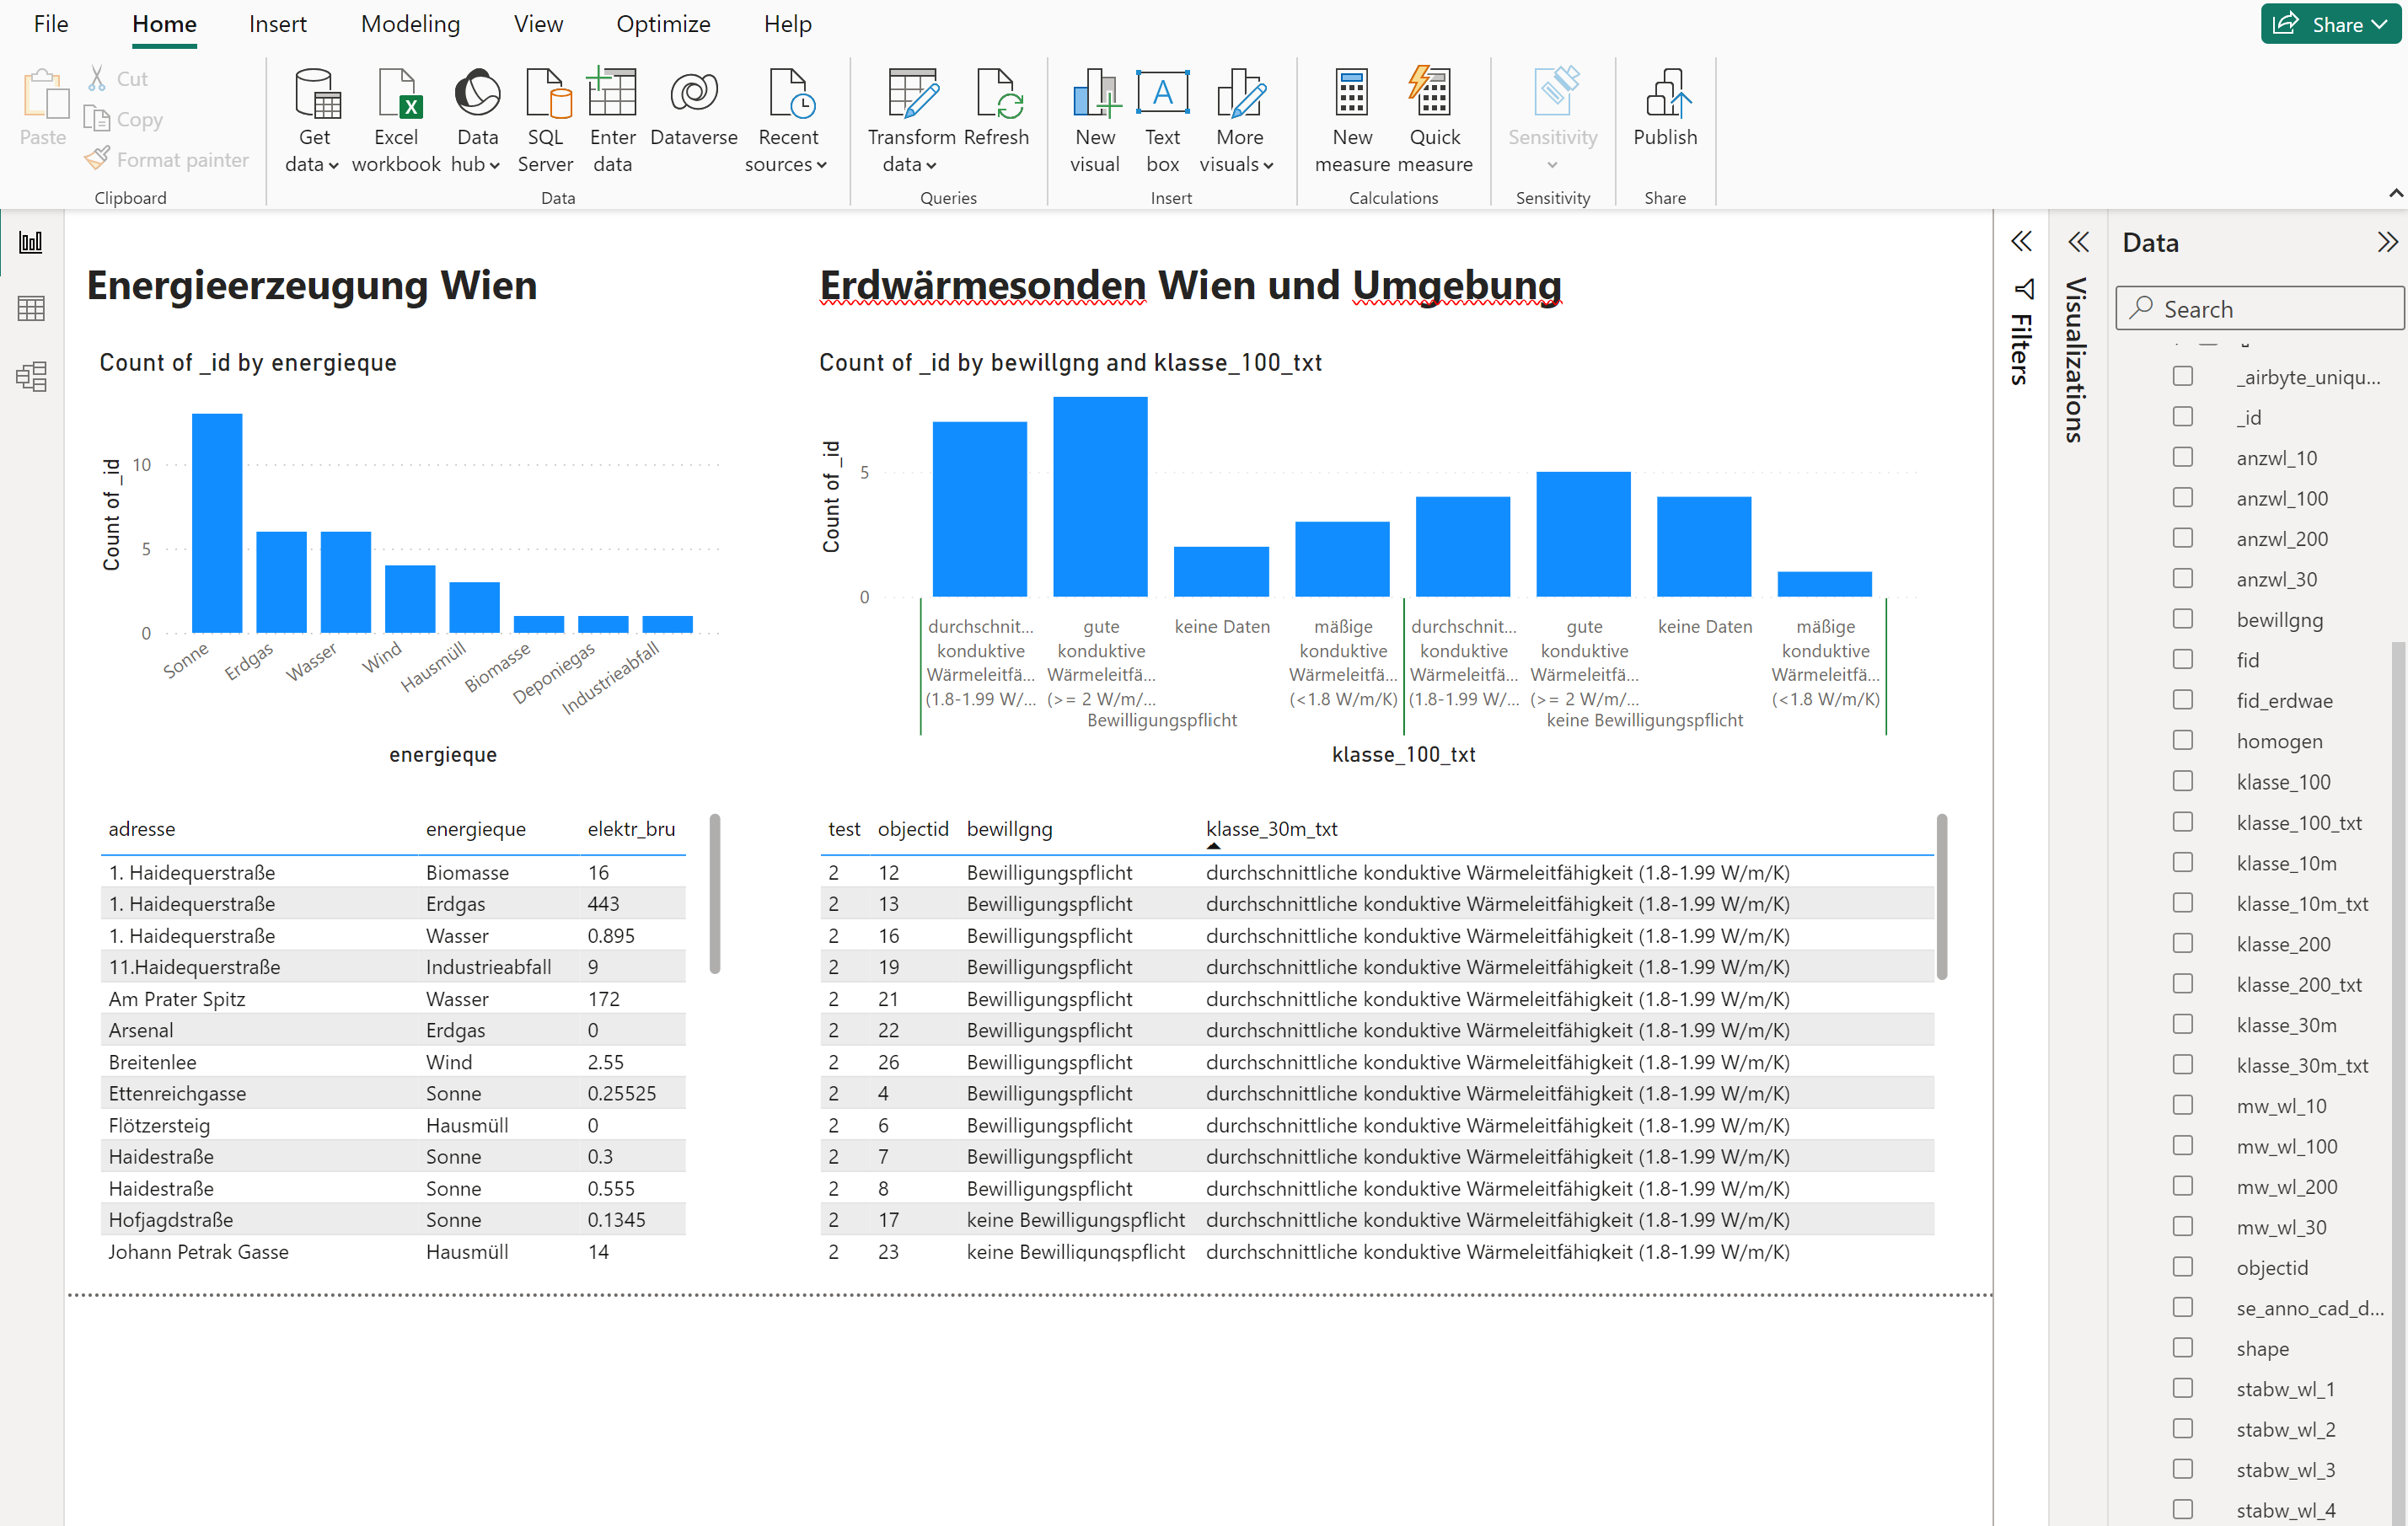

The dashboard page shown, as its layout file describes it:
{"tool":"powerbi","page":{"name":"Page 1","canvas":[1280,720],"ordinal":0},"visuals":[{"type":"tableEx","fields":{"Values":["public energieerzeugung_standorte.adresse","public energieerzeugung_standorte.energieque","public energieerzeugung_standorte.elektr_bru"]},"box":[18,395.4,423.7,306.8],"z":0},{"type":"tableEx","fields":{"Values":["public erdwarmesonden_potential.test","public erdwarmesonden_potential.objectid","public erdwarmesonden_potential.bewillgng","public erdwarmesonden_potential.klasse_30m_txt"]},"box":[495.6,395.4,760,308.1],"z":1000},{"type":"textbox","box":[9.3,26.2,423.1,66.4],"z":2000},{"type":"textbox","box":[496.1,25.8,686.5,50.4],"z":3000},{"type":"columnChart","fields":{"Category":["public energieerzeugung_standorte.energieque"],"Y":["public energieerzeugung_standorte._id"]},"box":[17.9,91.8,422.2,283.3],"z":4000},{"type":"columnChart","fields":{"Category":["public erdwarmesonden_potential.bewillgng","public erdwarmesonden_potential.klasse_100_txt"],"Y":["public erdwarmesonden_potential._id"]},"box":[496.1,91.8,742.5,283.3],"z":5000}]}

Visuals, with their boxes on the page's 1280x720 design canvas (x1, y1, x2, y2). These are canvas units, not pixel positions in the 2408x1526 screenshot, which may show the page scaled, cropped or inside an application window:
tableEx - public energieerzeugung_standorte.adresse x public energieerzeugung_standorte.energieque: BBox(18, 395, 442, 702)
tableEx - public erdwarmesonden_potential.test x public erdwarmesonden_potential.objectid: BBox(496, 395, 1256, 704)
textbox: BBox(9, 26, 432, 93)
textbox: BBox(496, 26, 1183, 76)
columnChart - public energieerzeugung_standorte.energieque x public energieerzeugung_standorte._id: BBox(18, 92, 440, 375)
columnChart - public erdwarmesonden_potential.bewillgng x public erdwarmesonden_potential.klasse_100_txt: BBox(496, 92, 1239, 375)
